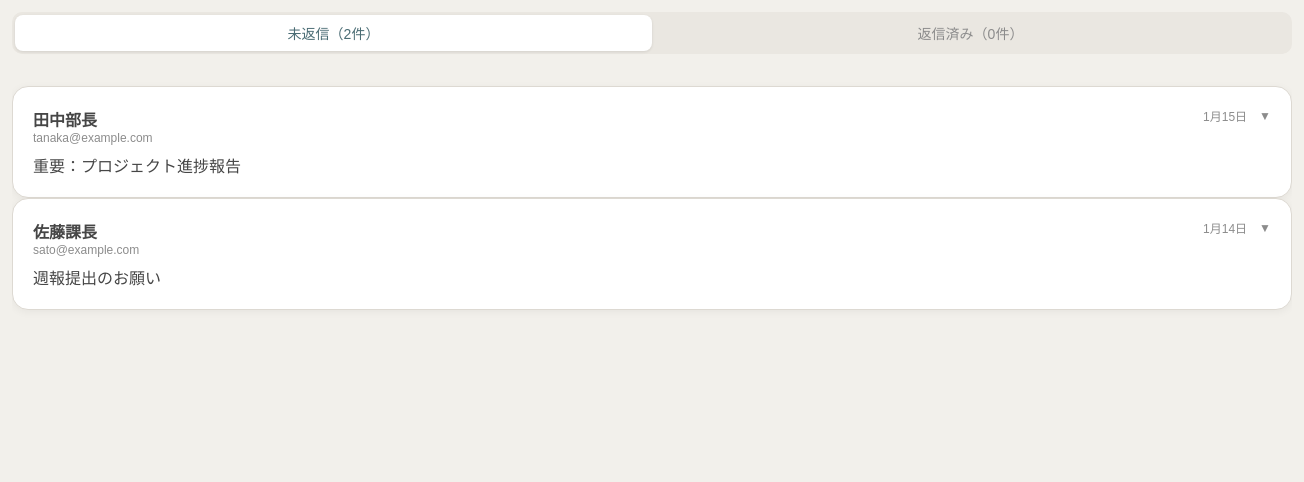
Test: EmailList › トグル形式 › should collapse email card when clicking header again
The image size is (1304, 482).
Expected: the text "田中部長" is shown, [33,112,97,129]
Click the button with class "email-card-header" that starts with "田中部長" at coordinates (65, 120), box [13,87,1291,197]
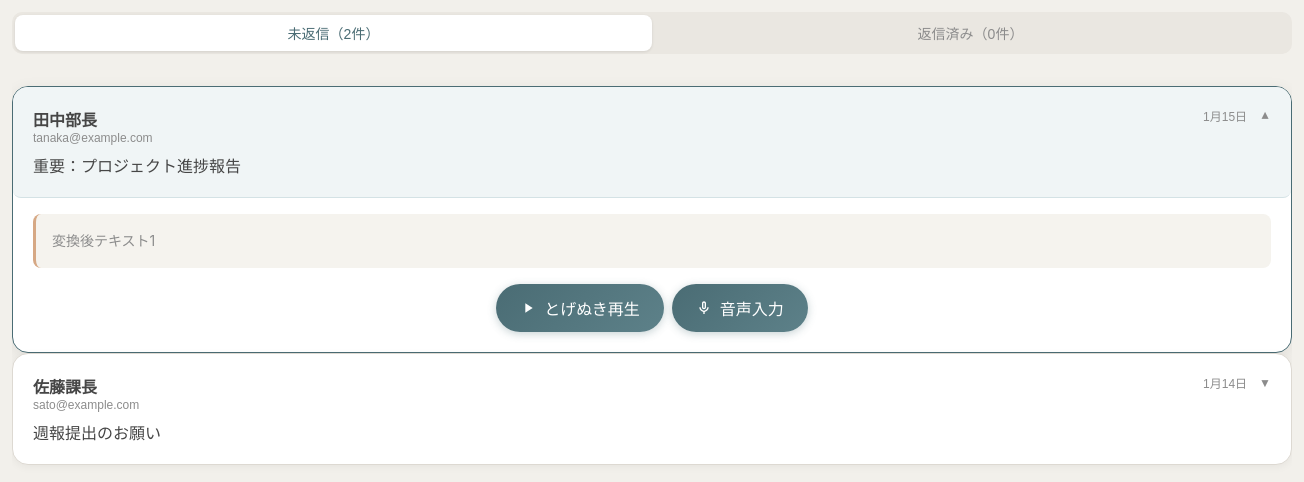
Now the text "変換後テキスト1" is shown, box [33,214,1271,268]
Click the button with class "email-card-header" that starts with "田中部長" at coordinates (65, 120), box [13,87,1291,198]
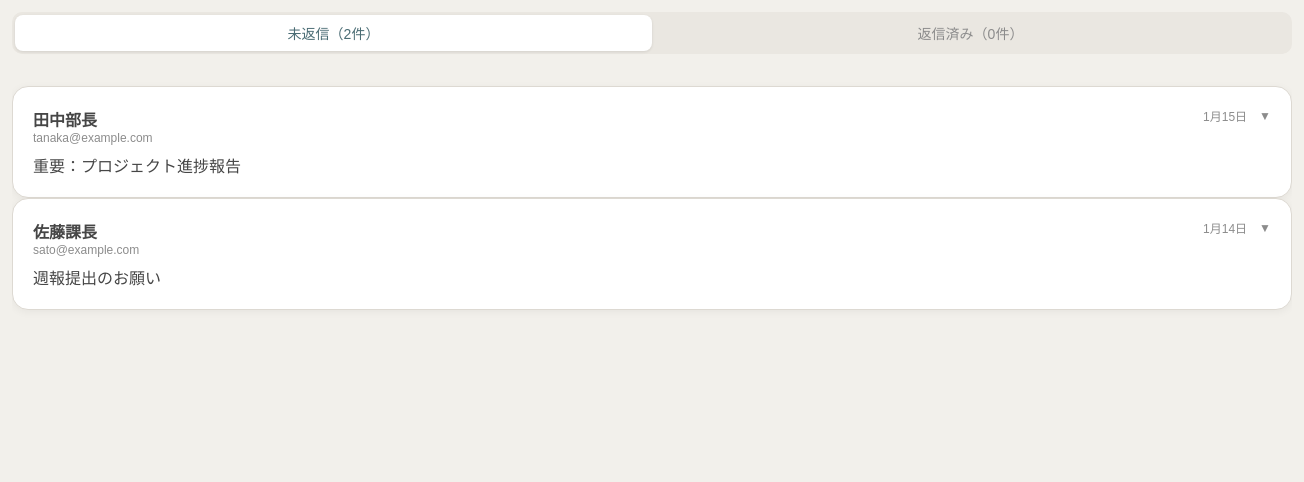
Now the text "変換後テキスト1" is gone
